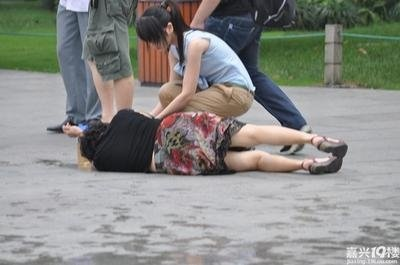falling: (57, 104, 352, 178)
